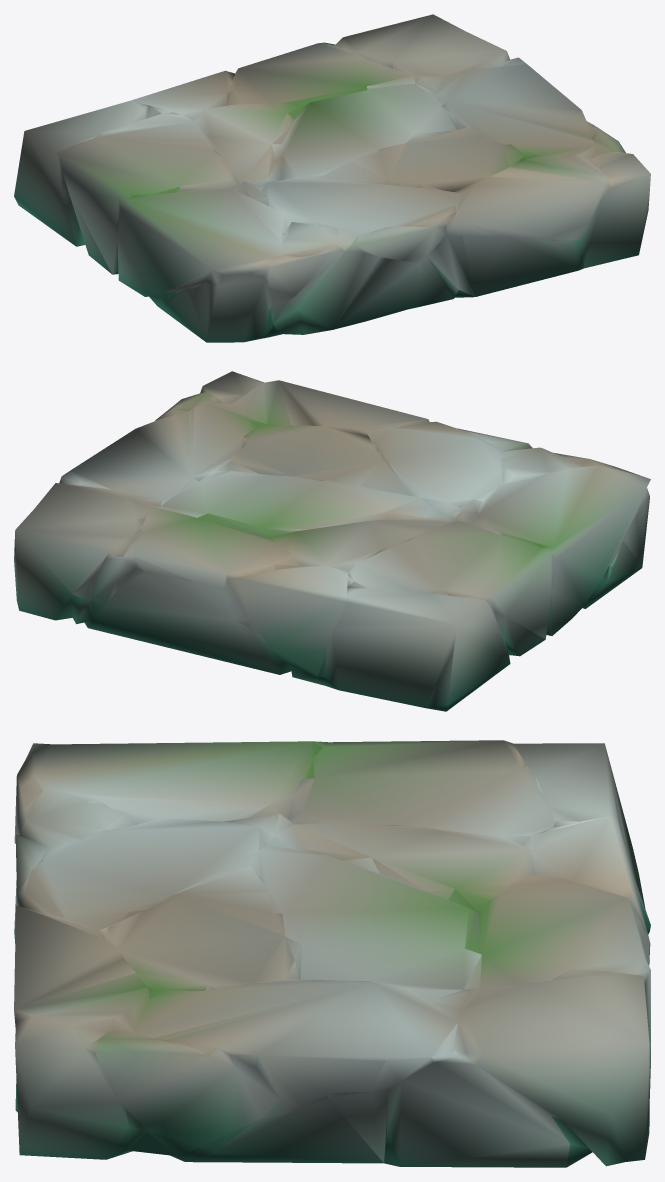
The model's file is grotto_flagstone_lod2.glb.
3 views of the same model, one above another, from view 1: azimuth 30°, elevation 25°; view 2: azimuth 150°, elevation 25°; view 3: azimuth 270°, elevation 25° (orthographic). The views are drawn at different scales.
Parts seen in each view (by area): view 1: grotto_flagstone.001; view 2: grotto_flagstone.001; view 3: grotto_flagstone.001.
Boxes of the visible parts, x1,y1,x2,y2 form: grotto_flagstone.001: [14, 14, 650, 342]; grotto_flagstone.001: [14, 371, 650, 711]; grotto_flagstone.001: [14, 740, 650, 1167].
Bounding box in the file's own units: 17.8 × 3.31 × 15.03.
